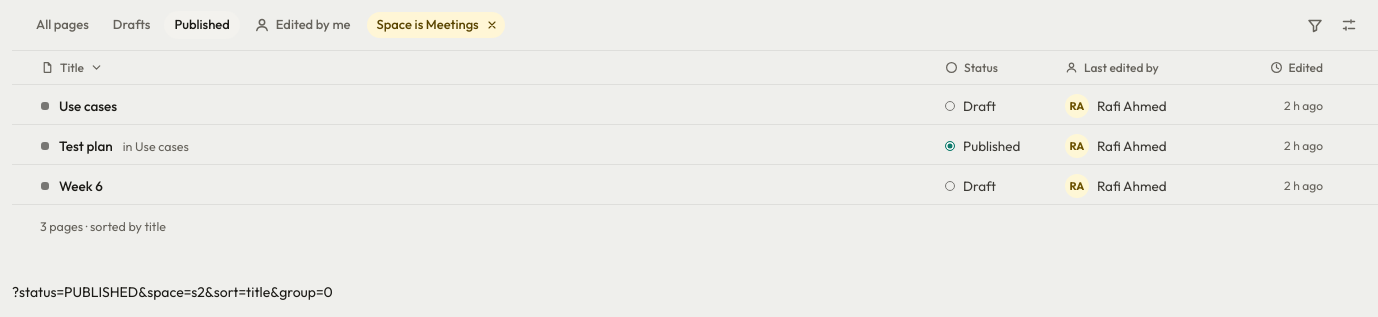
team pages list › aDeepLinkRestoresViewSpaceChipAndSort_andTheChipRemovesItself
Check: the text "Space is Meetings" is shown, box [367,12,505,38]
Check: the text "3 pages · sorted by title" is shown, box [40,218,166,234]
Click the button named "Remove filter: Space is Meetings". click: [492, 25]
box: [483,16,501,34]
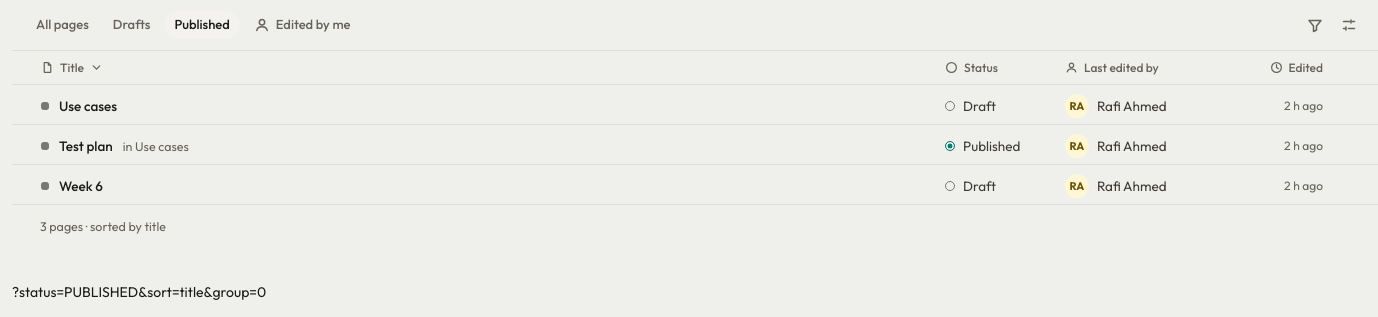
Check: the text with test id "where" reads "?status=PUBLISHED&sort=title&group=0", box [12,283,266,301]
